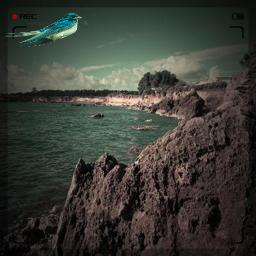Swallow: (5, 13, 82, 47)
